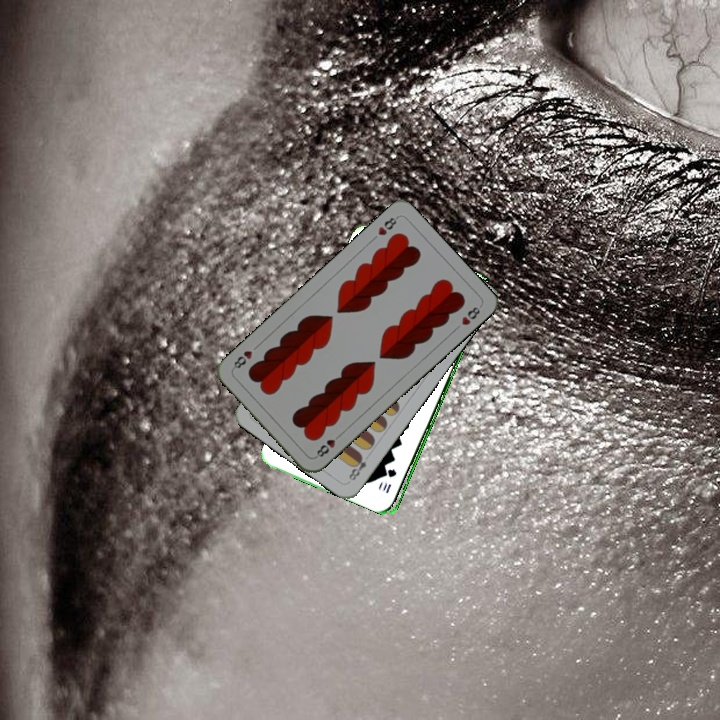E8: (345, 450, 369, 483)
G10: (382, 465, 399, 496)
H8: (311, 429, 344, 460), (374, 212, 401, 238)
